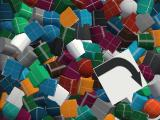Right: (93, 49, 147, 106)
